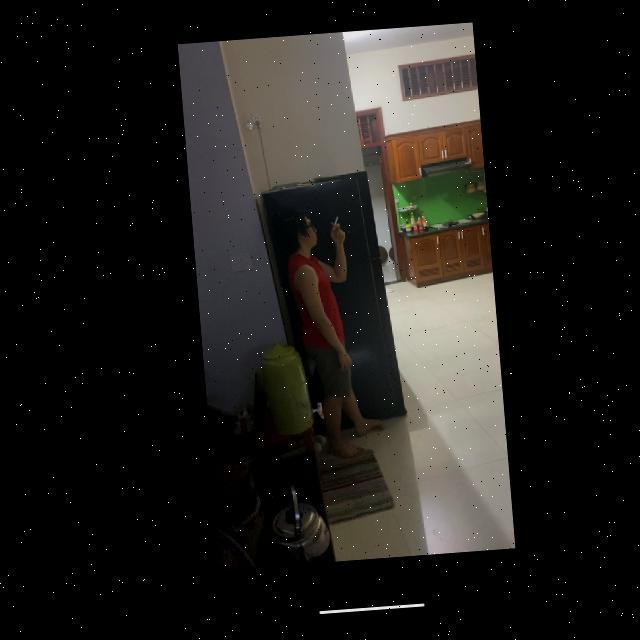cigarette: (327, 222, 334, 235)
